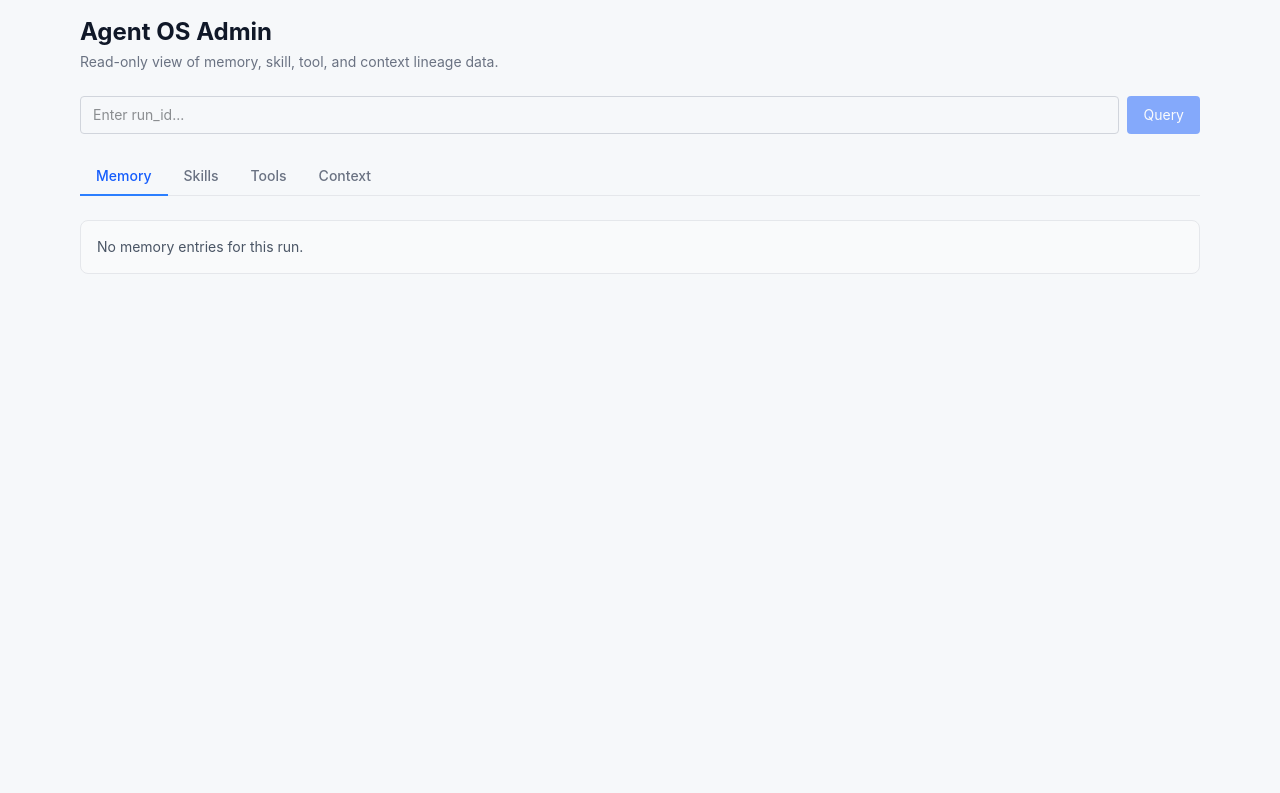
it: AdminAgosPage › sends the session token in the header and renders all four governance rails
In the field named "Run ID": (600, 115) [80,96,1120,134], type "run 1"
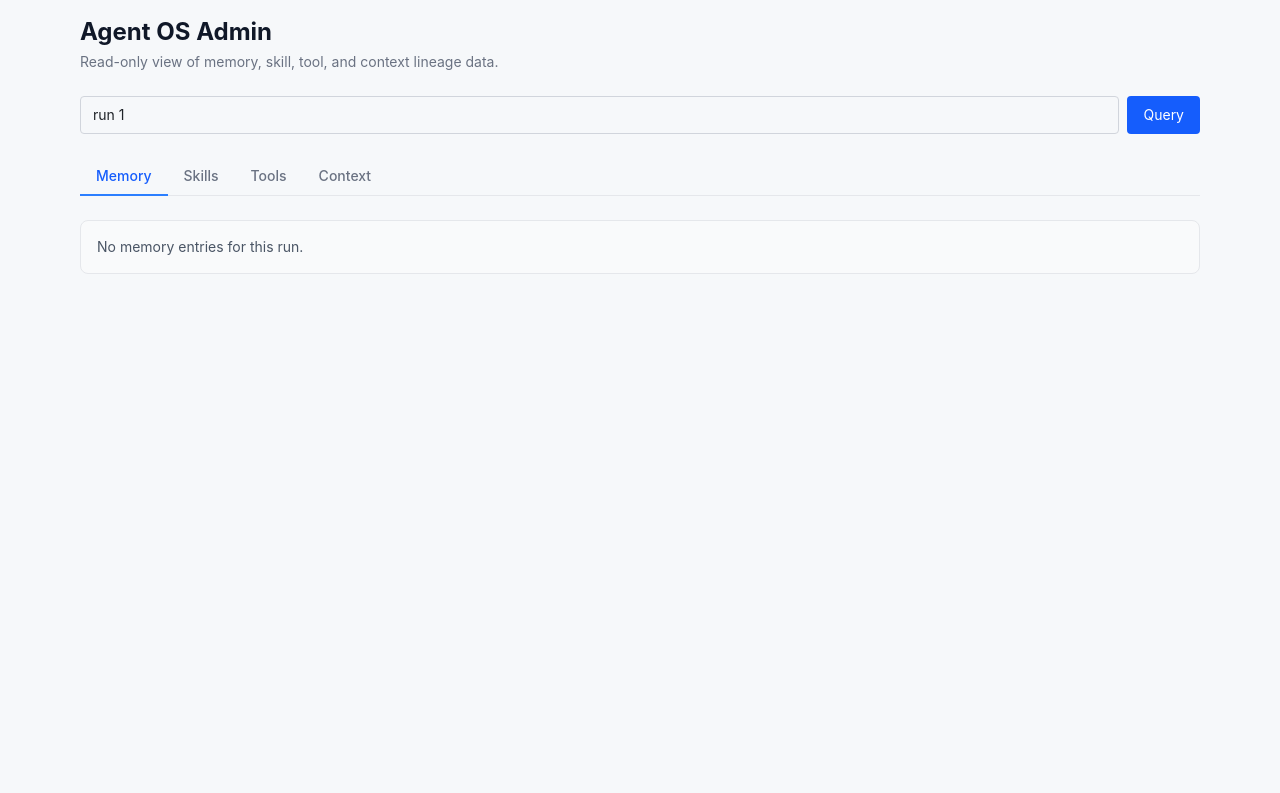
Click the button "Query": (1164, 115) [1128,96,1200,134]
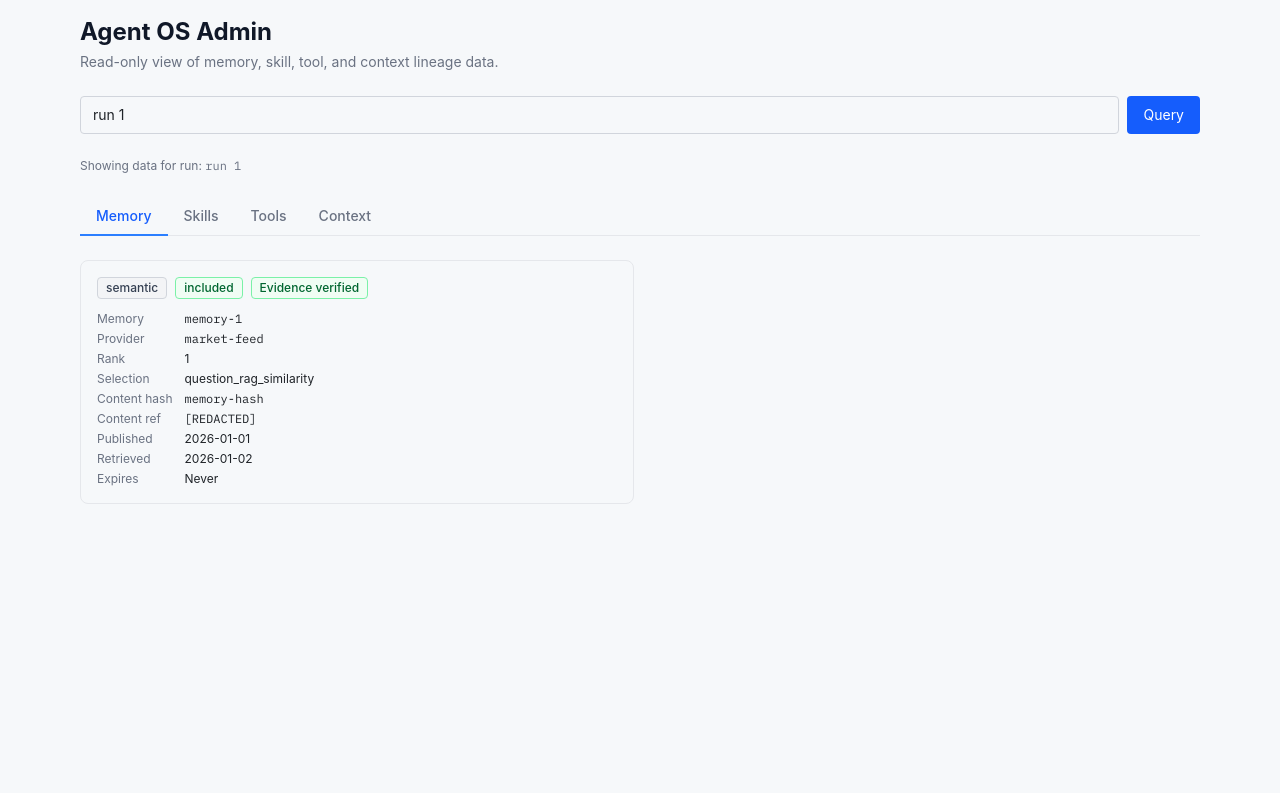
Now the text "question_rag_similarity" is shown, box [184,371,314,386]
Click the tab "Skills": (201, 217) [168,198,235,236]
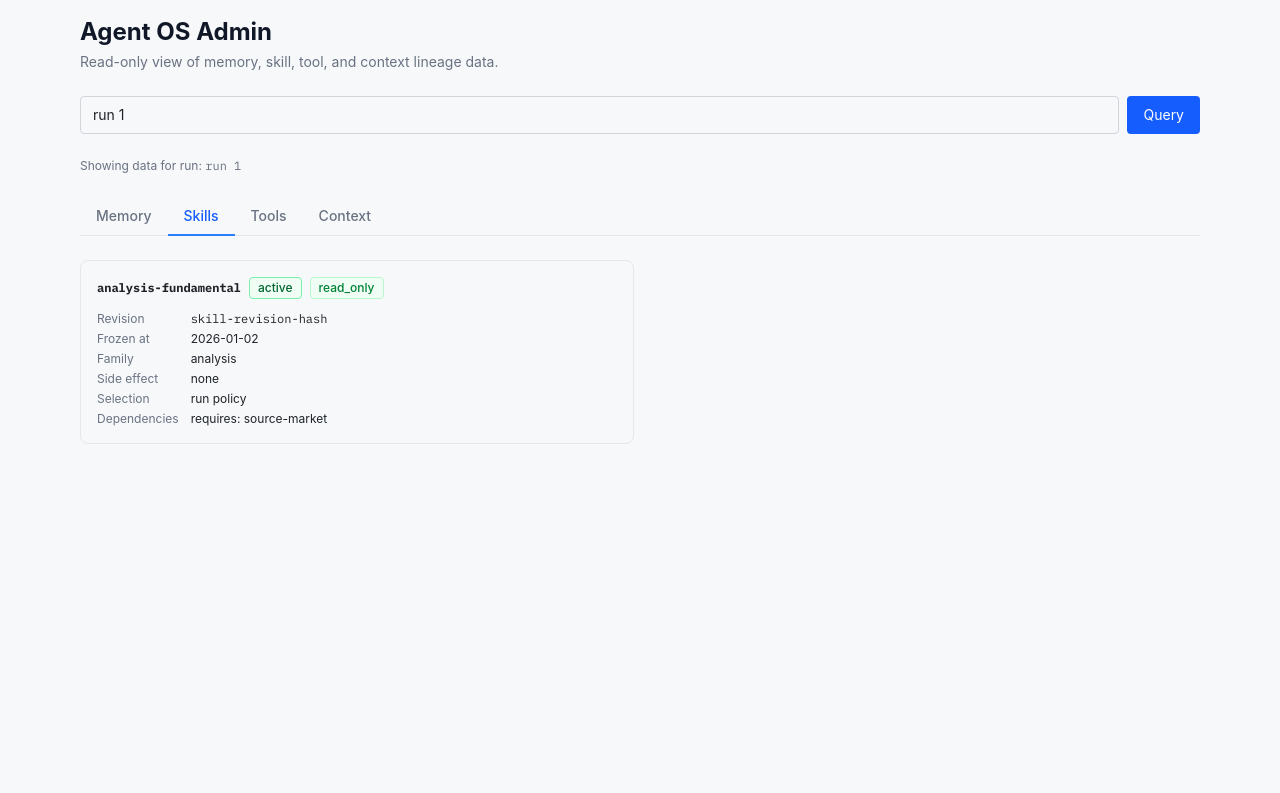
Now the text "source-market" is shown, box [191,411,327,426]
Click the tab "Tools": (269, 217) [235,198,303,236]
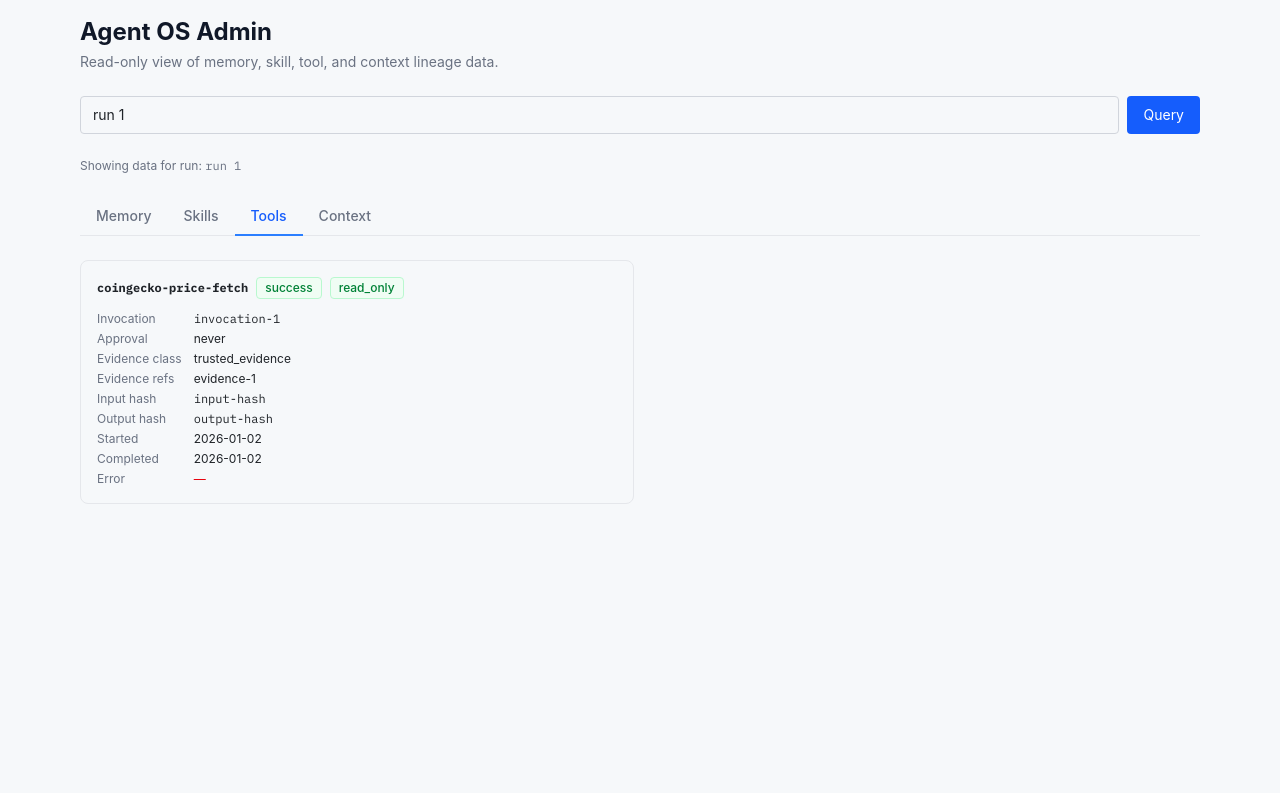
Now the text "trusted_evidence" is shown, box [194,351,291,366]
Click the tab "Context": (345, 217) [303,198,387,236]
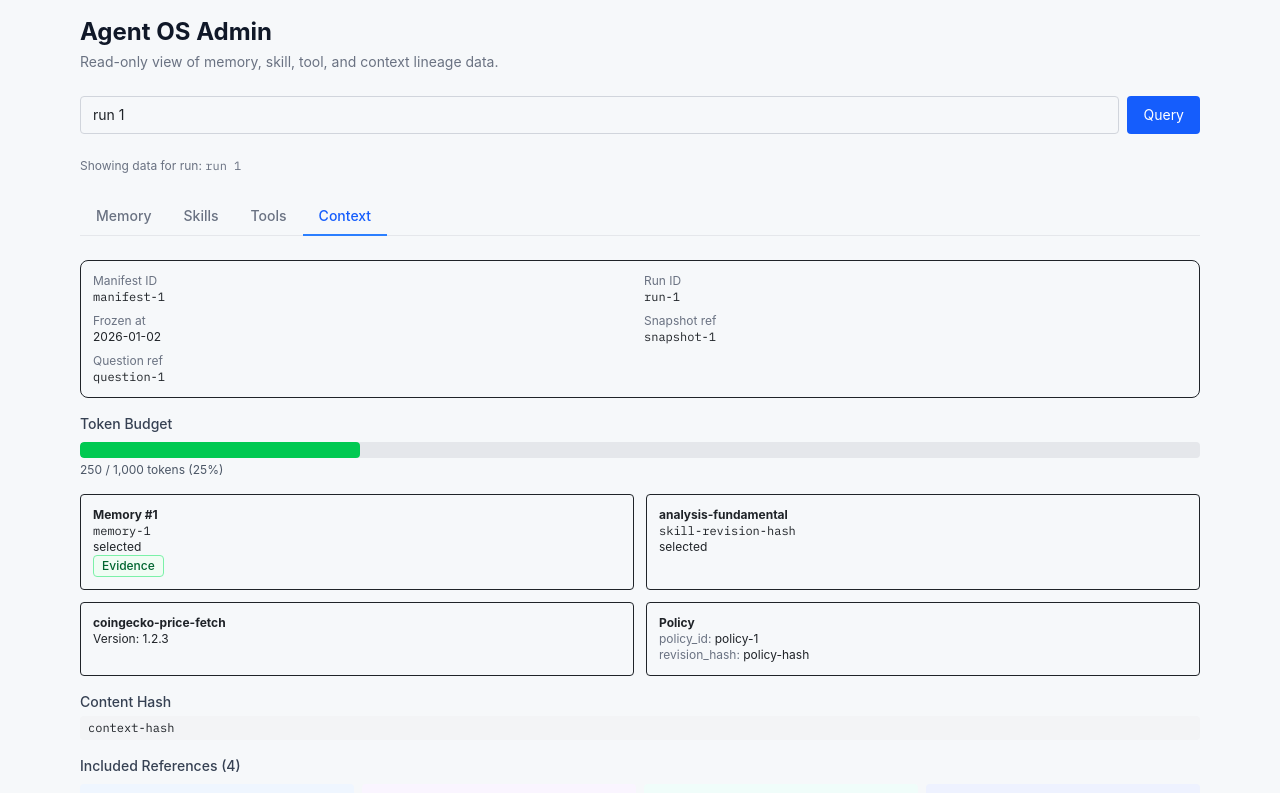
Now the text "snapshot-1" is shown, box [644,329,716,344]
Now the text "1.2.3" is shown, box [142,631,169,646]
Now the text "policy-hash" is shown, box [743,647,809,662]
